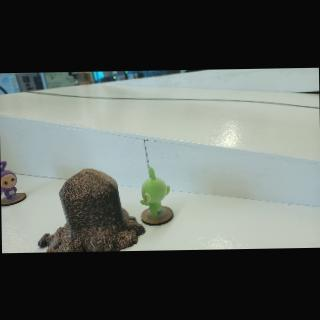teletubby: (140, 167, 169, 216), (0, 161, 16, 199)
